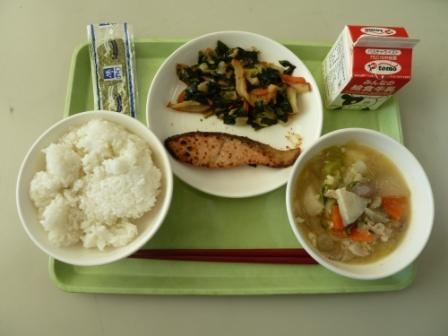Fish: (159, 123, 311, 183)
Milk: (321, 18, 424, 115)
Rice: (18, 113, 162, 255)
Soups: (294, 125, 431, 268)
salad with sauce: (171, 39, 302, 129)
